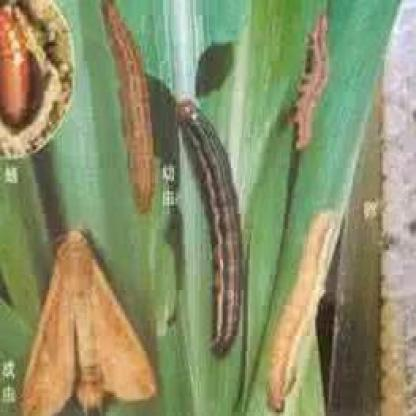armyworm: (17, 225, 155, 416), (174, 99, 249, 357), (266, 205, 339, 416), (102, 0, 161, 217), (288, 6, 330, 150), (1, 3, 40, 127)
